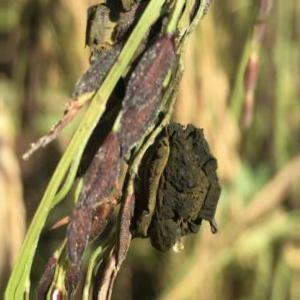Leaf_Scald: (143, 123, 217, 242)
